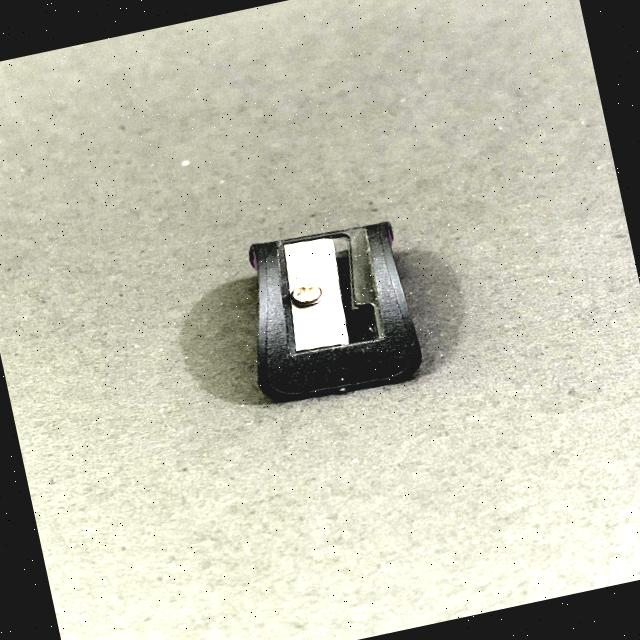Sharpner: (196, 182, 488, 429)
